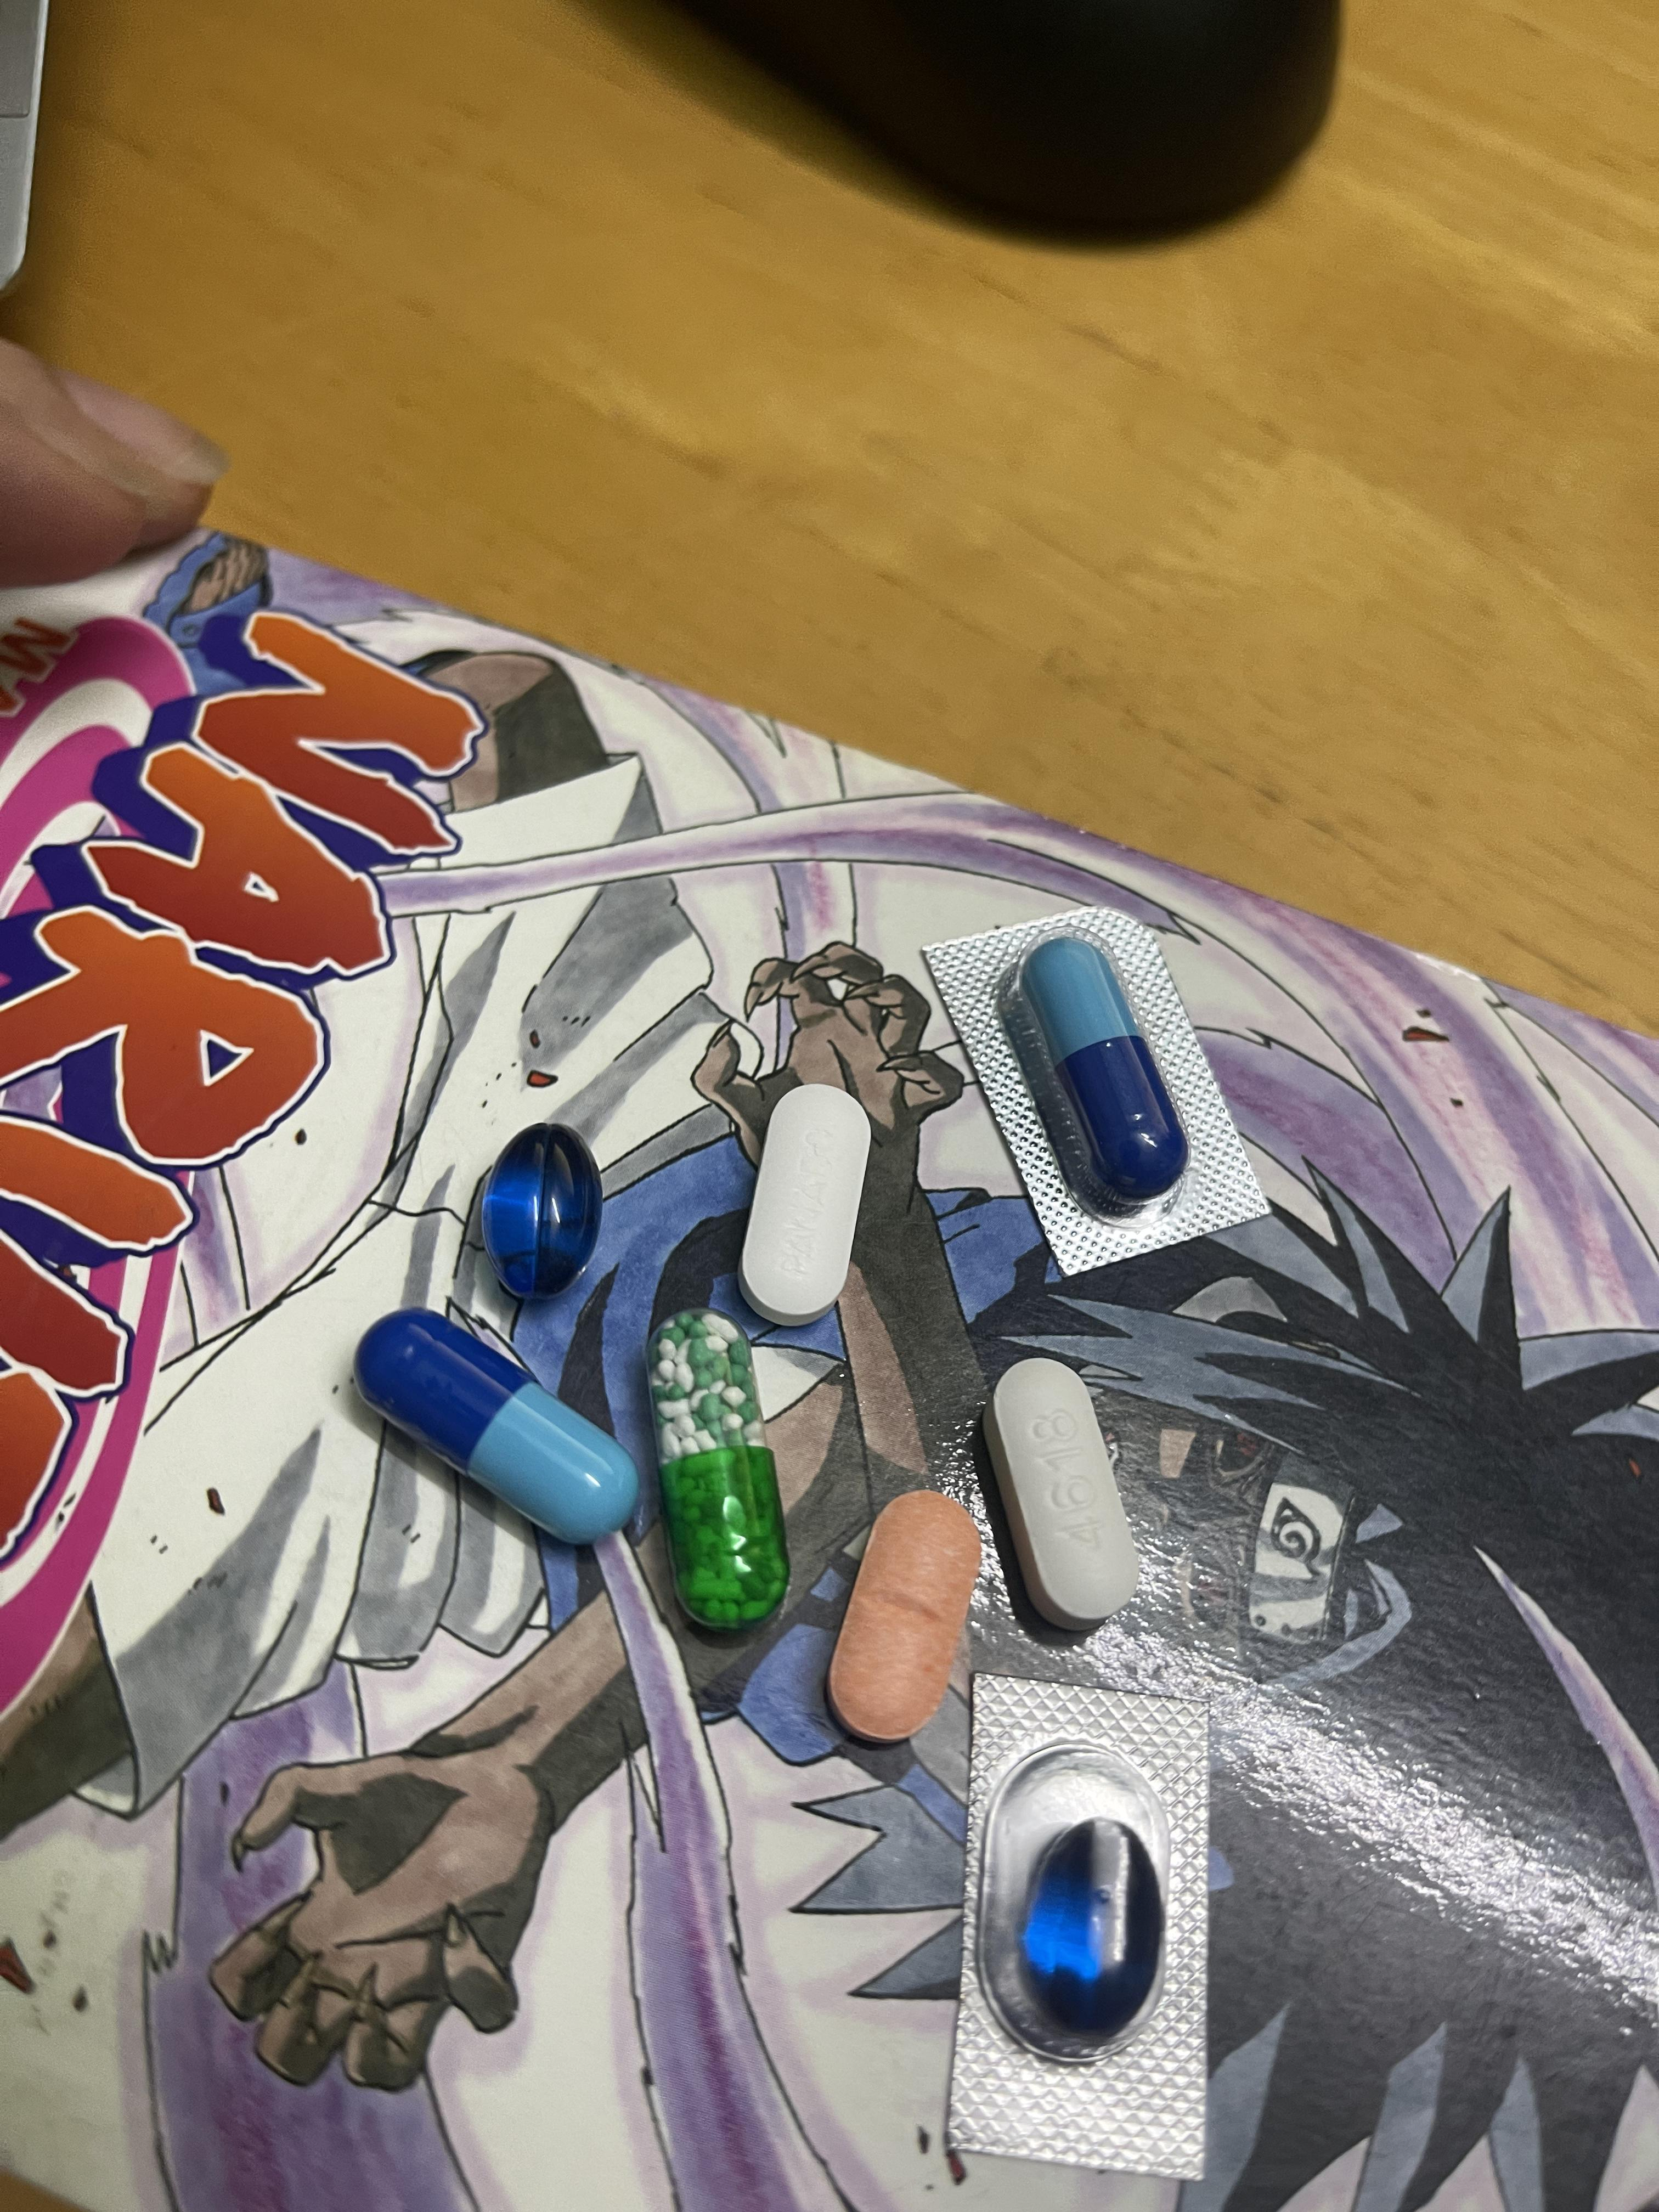Lincomyxin_500mg: (1014, 1815, 1166, 2045), (479, 1120, 603, 1299)
Loratadine_10mg: (826, 1493, 976, 1737)
Paracetamol_350mg: (739, 1089, 870, 1322)
Paracetamol_500mg: (990, 1366, 1134, 1623)
Paracetamol_650mg: (650, 1317, 788, 1620)
pill: (354, 1305, 643, 1547), (1018, 942, 1185, 1209)
